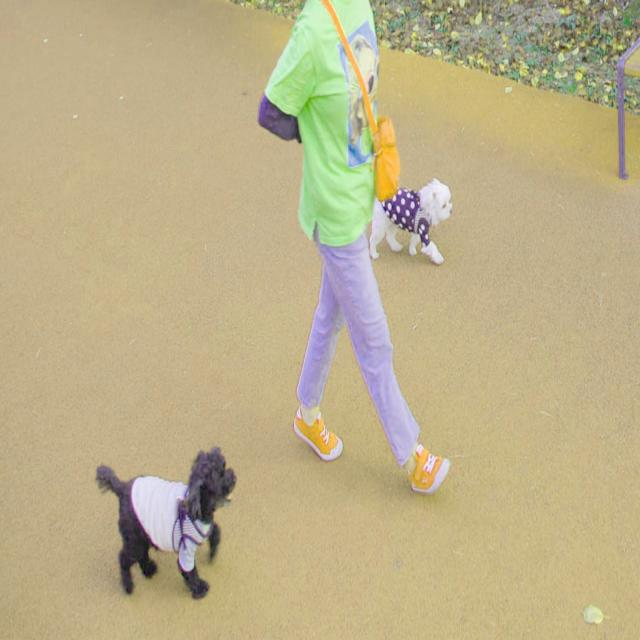Leashed_Dog: (355, 154, 453, 268)
Unleashed_Dog: (96, 344, 343, 600)
